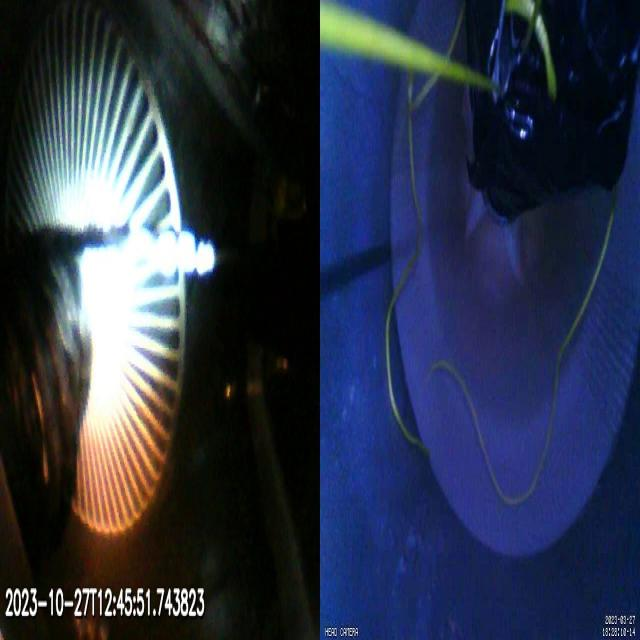white-dots: (157, 228, 215, 276)
